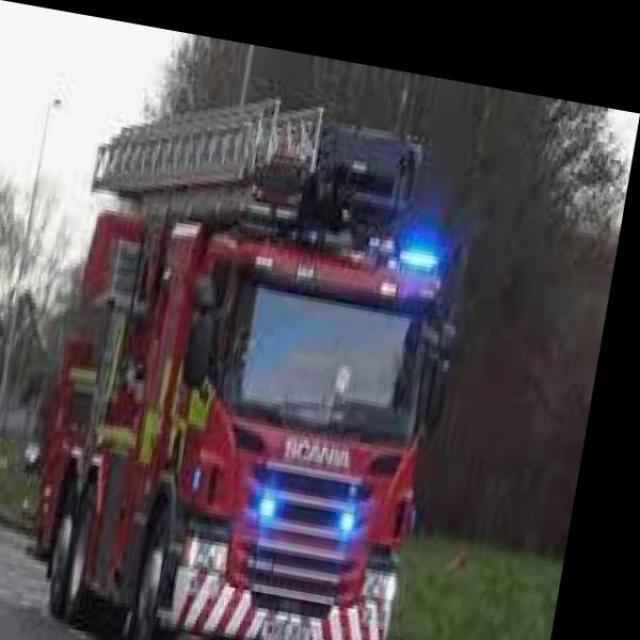emergency: (28, 116, 458, 640)
